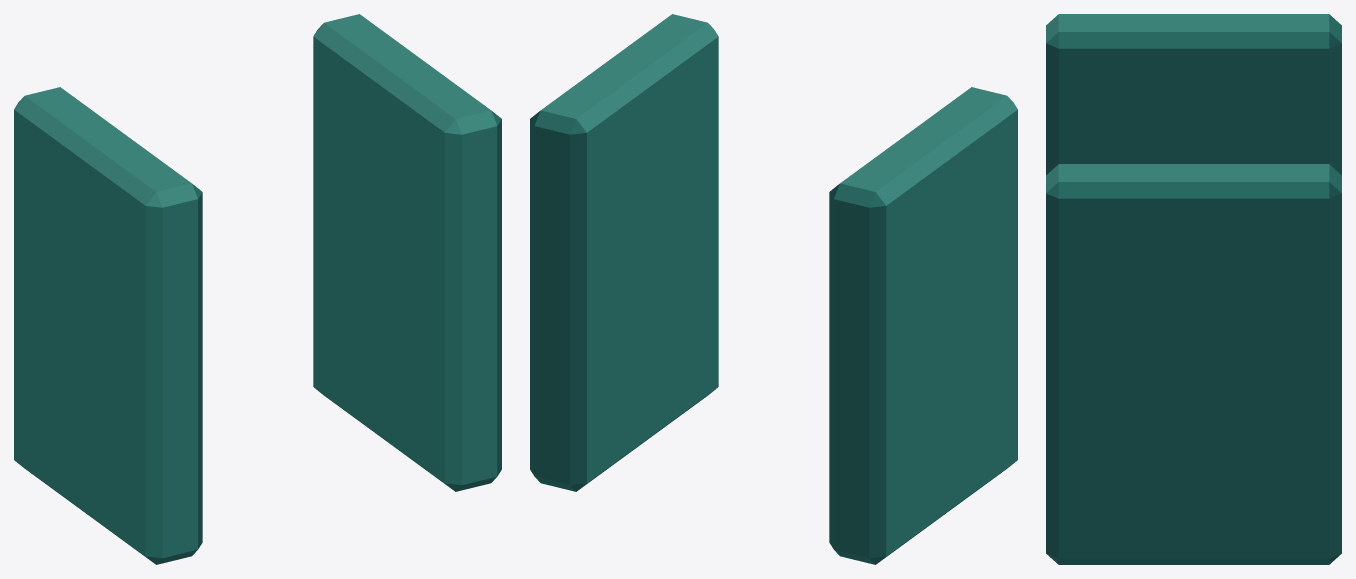
File: Door_Jamb.gltf
3 renders of one model, left to right at view 1: azimuth 30°, elevation 25°; view 2: azimuth 150°, elevation 25°; view 3: azimuth 270°, elevation 25°, orthographic. The views are drawn at different scales.
Visible parts, largest first — view 1: Door_Jamb_baked; view 2: Door_Jamb_baked; view 3: Door_Jamb_baked.
Part boxes in pixels (x1,y1,x2,y2): Door_Jamb_baked: [14, 14, 501, 564]; Door_Jamb_baked: [530, 14, 1017, 564]; Door_Jamb_baked: [1046, 14, 1341, 564].
Bounding box in the file's own units: 1 × 1 × 0.7.
